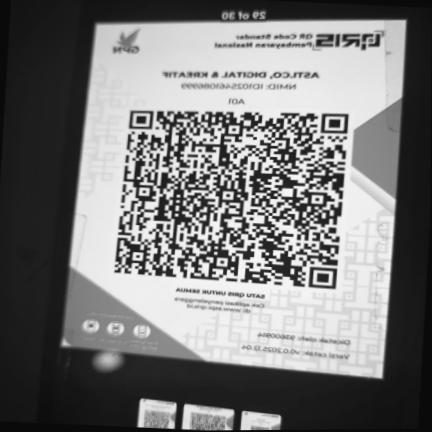Cara Pakai QRIS: (65, 307, 166, 354)
Cek Aplikasi Penyelenggara: (167, 294, 271, 318)
Dicetak Oleh: (251, 328, 354, 347)
Logo GPN: (109, 27, 147, 58)
Logo dan deskripsi QRIS: (205, 26, 391, 56)
Nama Merchant: (157, 68, 326, 81)
National Merchant ID: (175, 81, 301, 94)
QR Code: (109, 108, 357, 293)
Slogan: (168, 284, 272, 301)
Terminal ID: (224, 97, 249, 106)
Versi Cetak: (238, 341, 353, 363)
